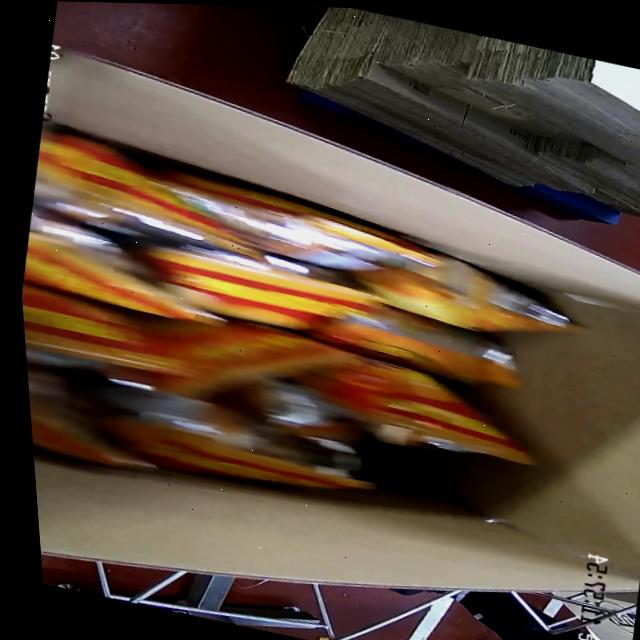FRENCH_CHEESE: (10, 138, 620, 569)
